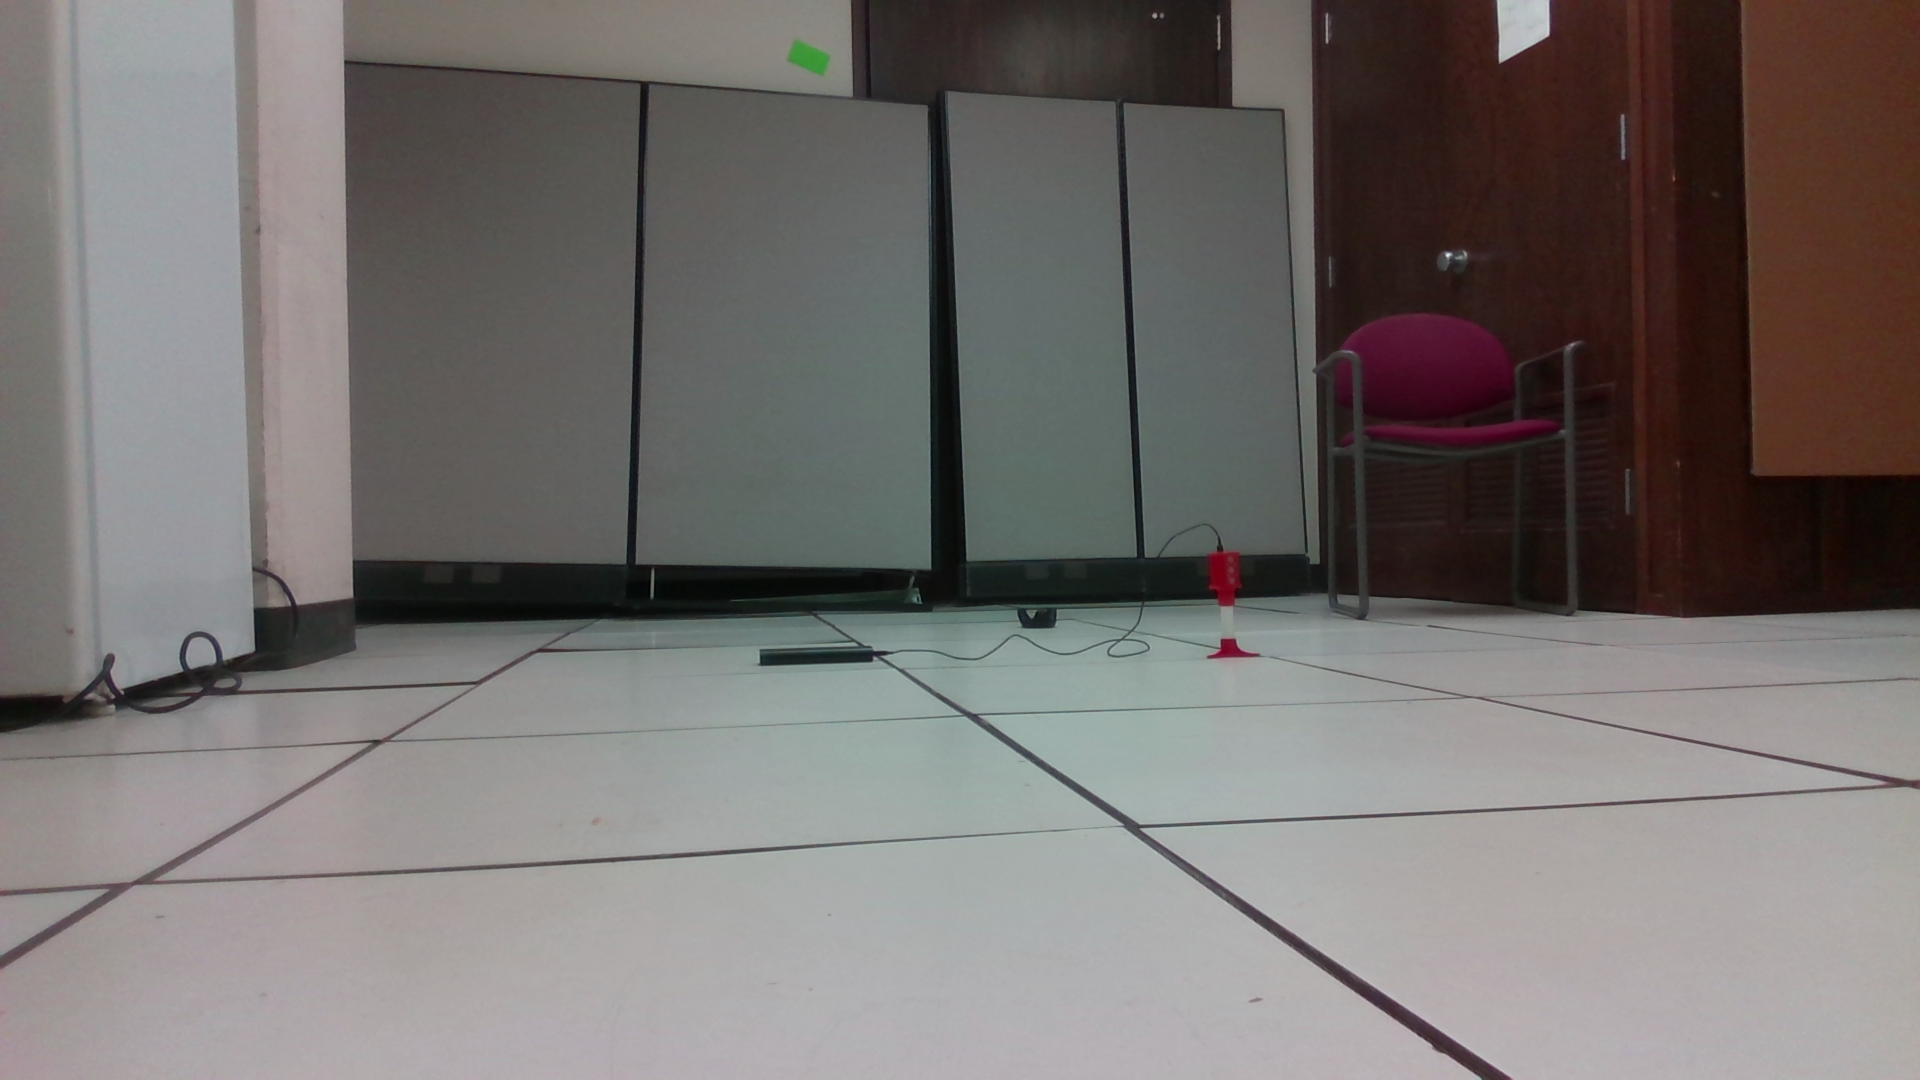stoplight: (1207, 549, 1242, 603)
